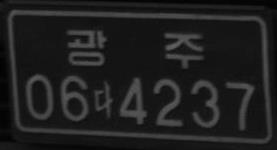0: (25, 72, 53, 120)
2: (153, 77, 182, 126)
3: (189, 79, 220, 128)
4: (118, 77, 147, 124)
6: (59, 75, 90, 121)
7: (224, 79, 258, 131)
광주_D: (67, 28, 204, 69)
다: (94, 80, 113, 119)
